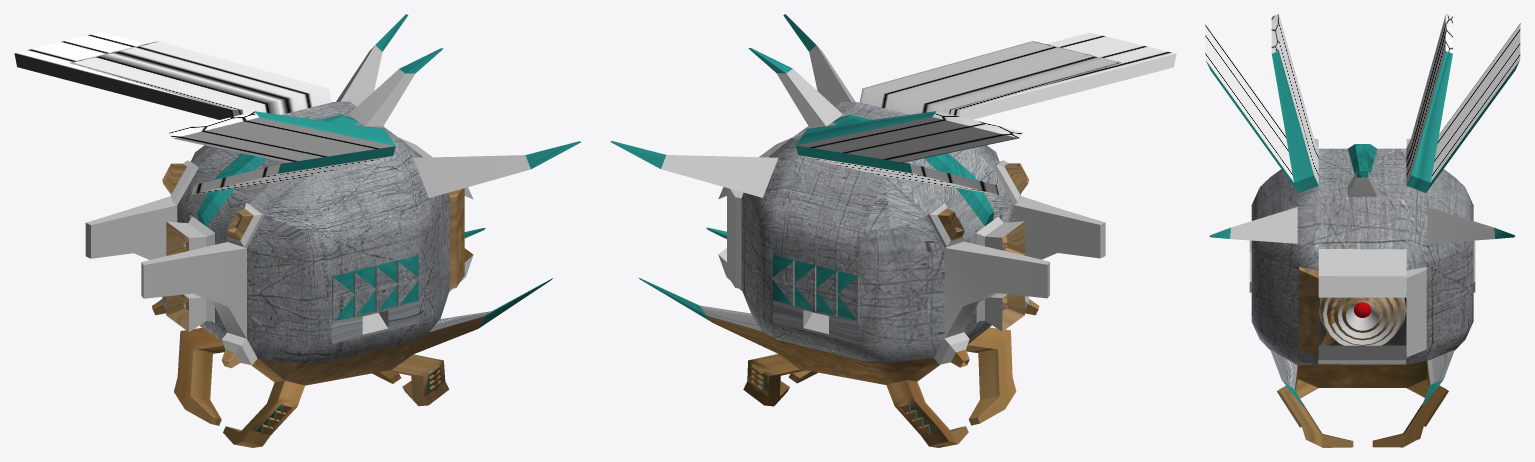
Rendered from mamaBotFIlght.fbx.
3 views of the same model, side by side, from view 1: azimuth 30°, elevation 25°; view 2: azimuth 150°, elevation 25°; view 3: azimuth 270°, elevation 25° (orthographic). The views are drawn at different scales.
Parts seen in each view (by area): view 1: pSphere2; view 2: pSphere2; view 3: pSphere2.
Part boxes in pixels (box(x1,y1,x2,y2)): pSphere2: box(14, 14, 580, 447); pSphere2: box(610, 14, 1176, 447); pSphere2: box(1205, 14, 1520, 447).
Bounding box in the file's own units: 1.89 × 1.57 × 1.42.
